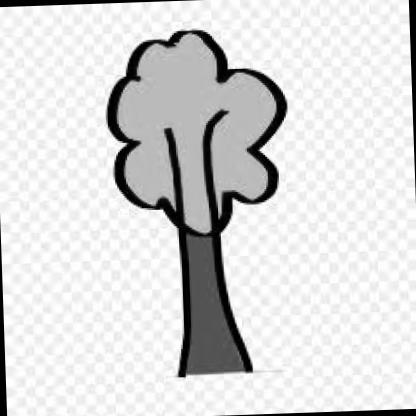crown_cloud: (102, 24, 294, 240)
trunk_straight: (170, 239, 247, 337)
